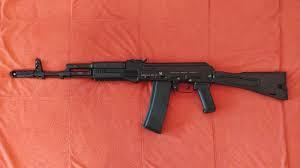larga: (8, 58, 289, 134)
